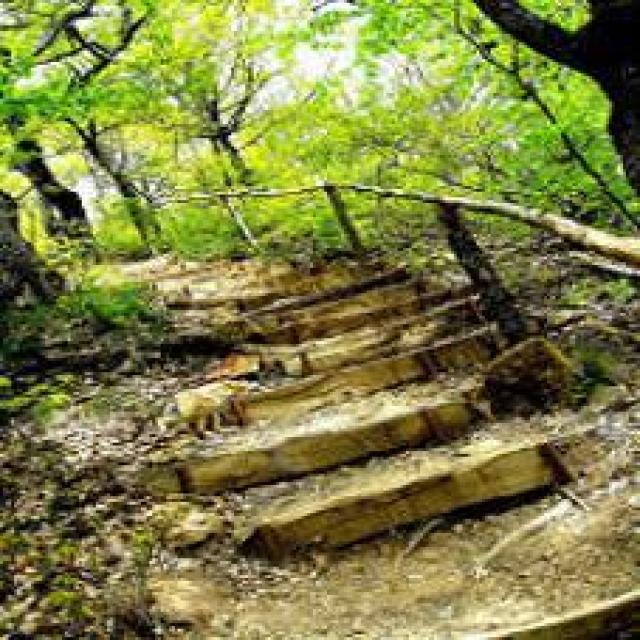upstair: (165, 340, 636, 540)
